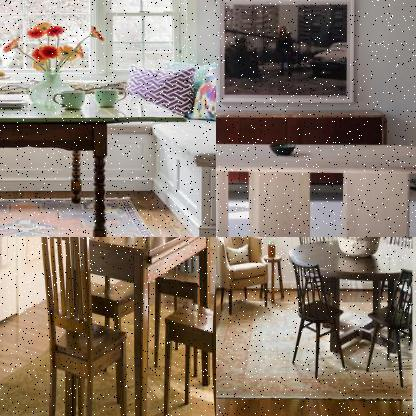table: (0, 72, 199, 236), (48, 237, 215, 415), (216, 139, 415, 236), (286, 237, 415, 365)
